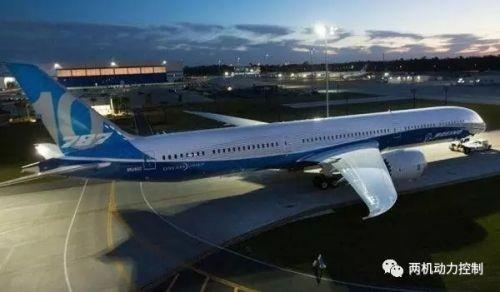airplane: (4, 59, 486, 220)
